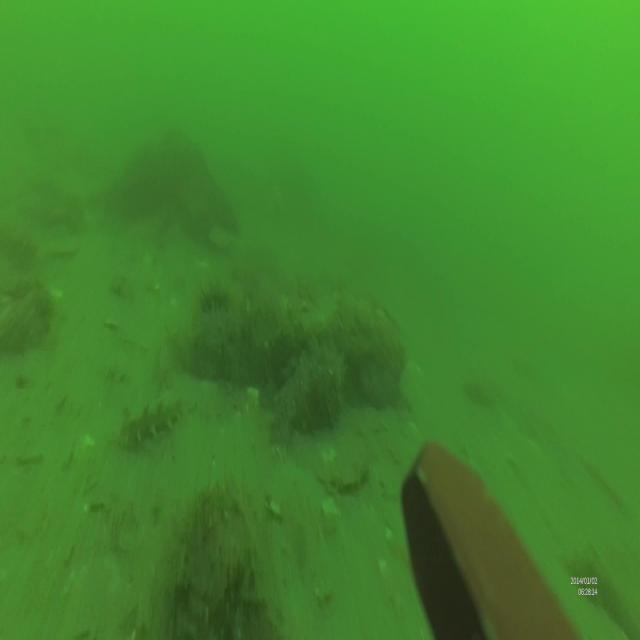echinus: (197, 282, 227, 318)
holothurian: (109, 395, 185, 449)
